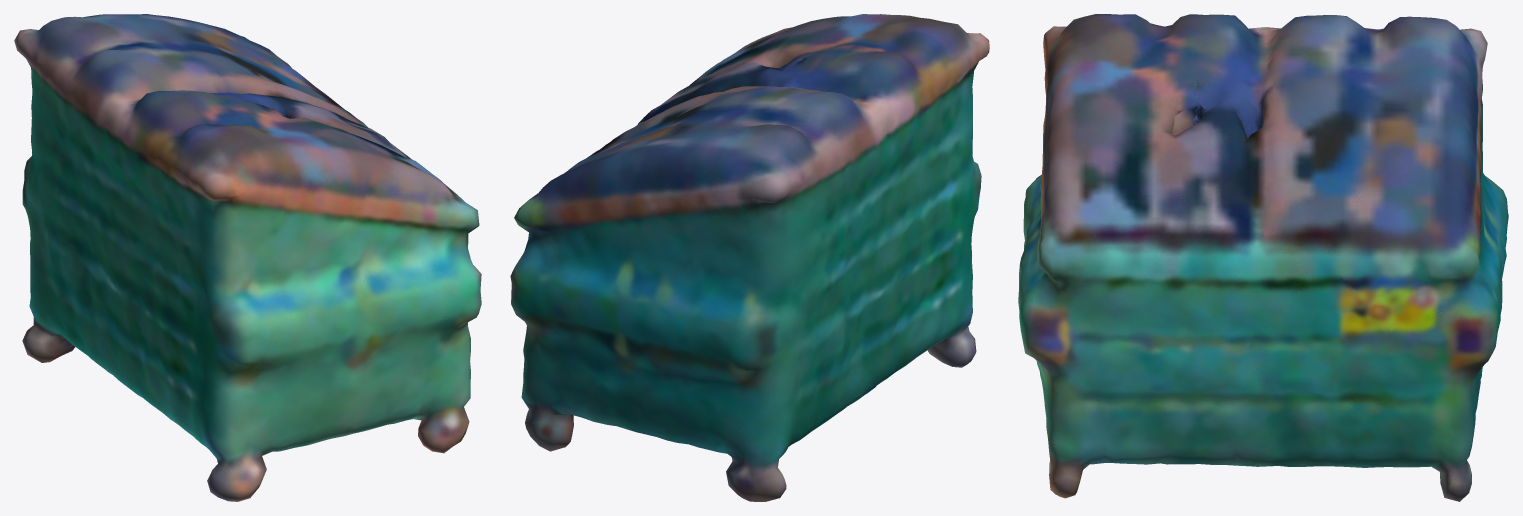
Rendered from NYC_dumpster_0403152852_preview.fbx.
3 renders of one model, left to right at view 1: azimuth 30°, elevation 25°; view 2: azimuth 150°, elevation 25°; view 3: azimuth 270°, elevation 25°, orthographic. The views are drawn at different scales.
Visible parts, largest first — view 1: Mesh1; view 2: Mesh1; view 3: Mesh1.
Part boxes in pixels (x1,y1,x2,y2): Mesh1: (14,14,481,501); Mesh1: (510,14,989,501); Mesh1: (1018,14,1508,501).
Size of the model in its own units: 82.99 by 101 by 120.
1 material, 1 textured.
